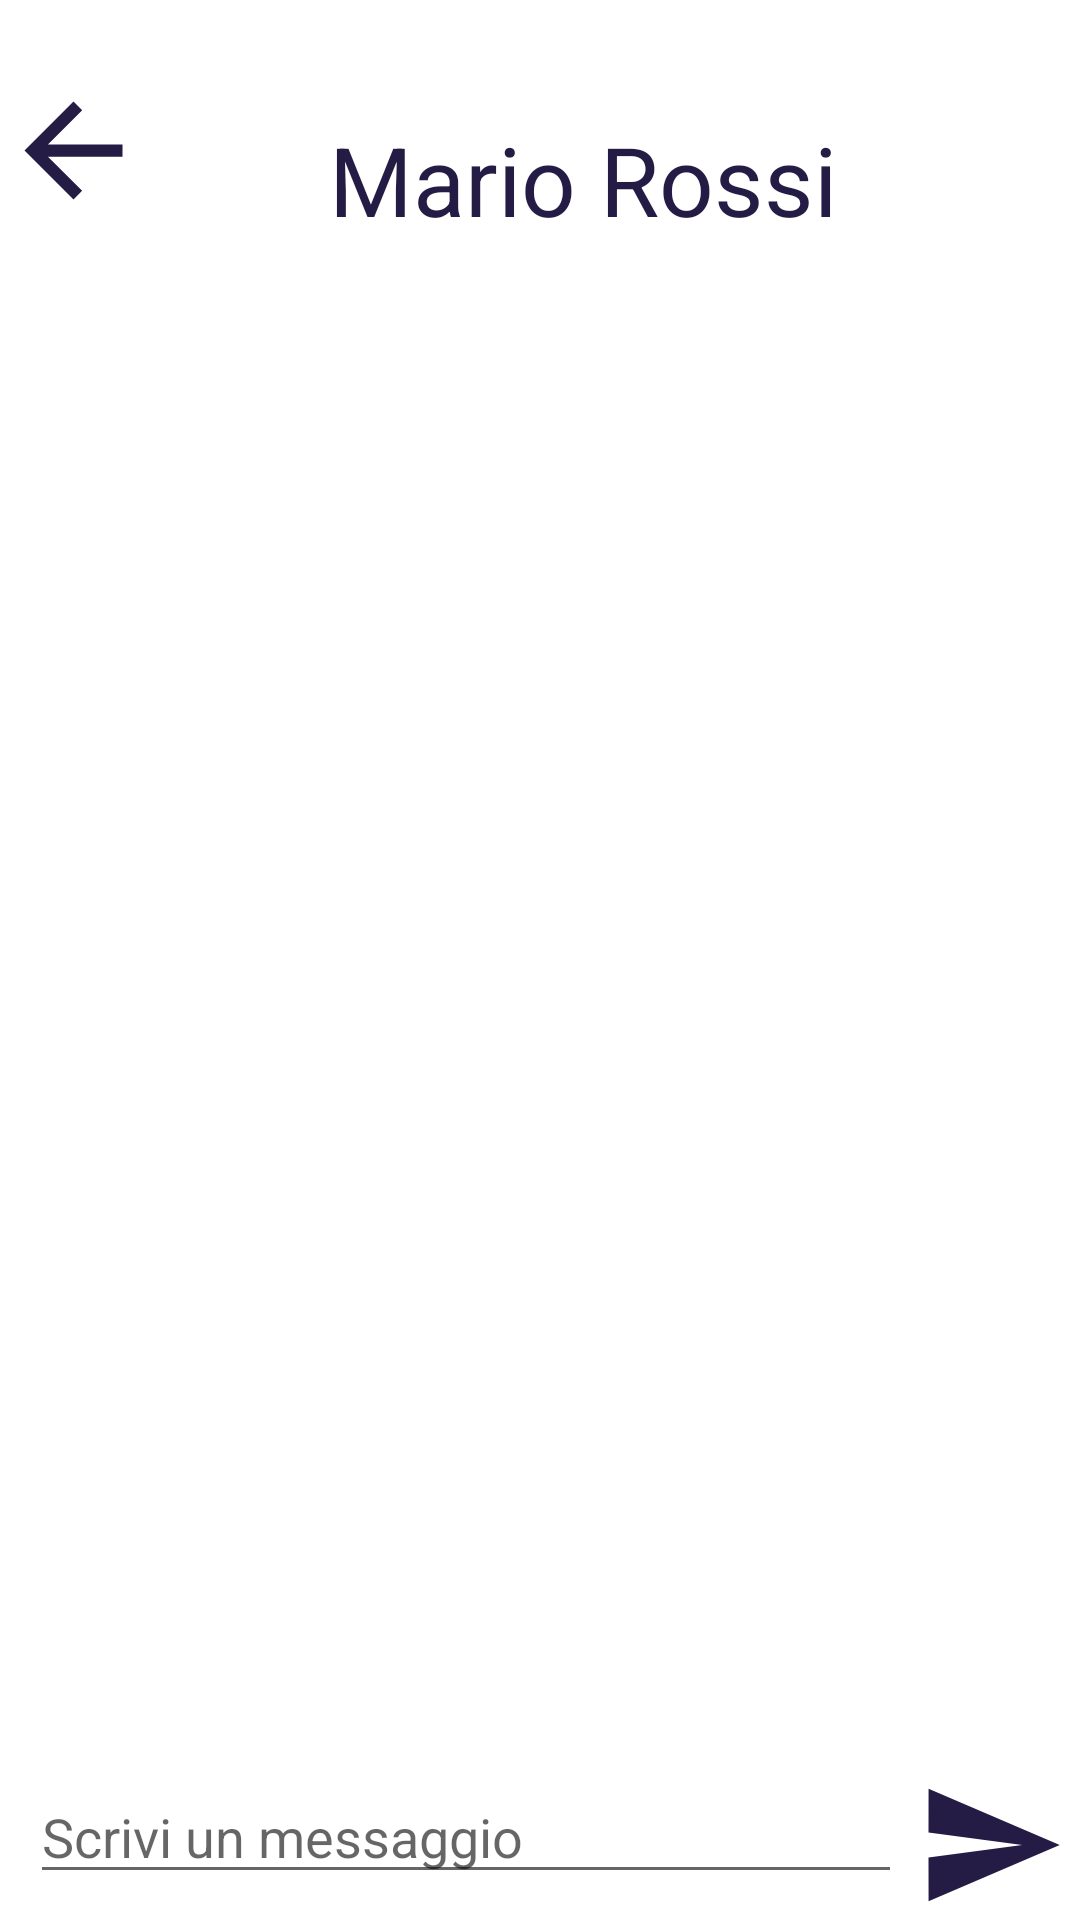

Icon bounding boxes for this 1080×1920 phone screenshot, format (x1, y1, x2, y2):
arrow back: (24, 101, 123, 200)
send: (928, 1789, 1060, 1901)
